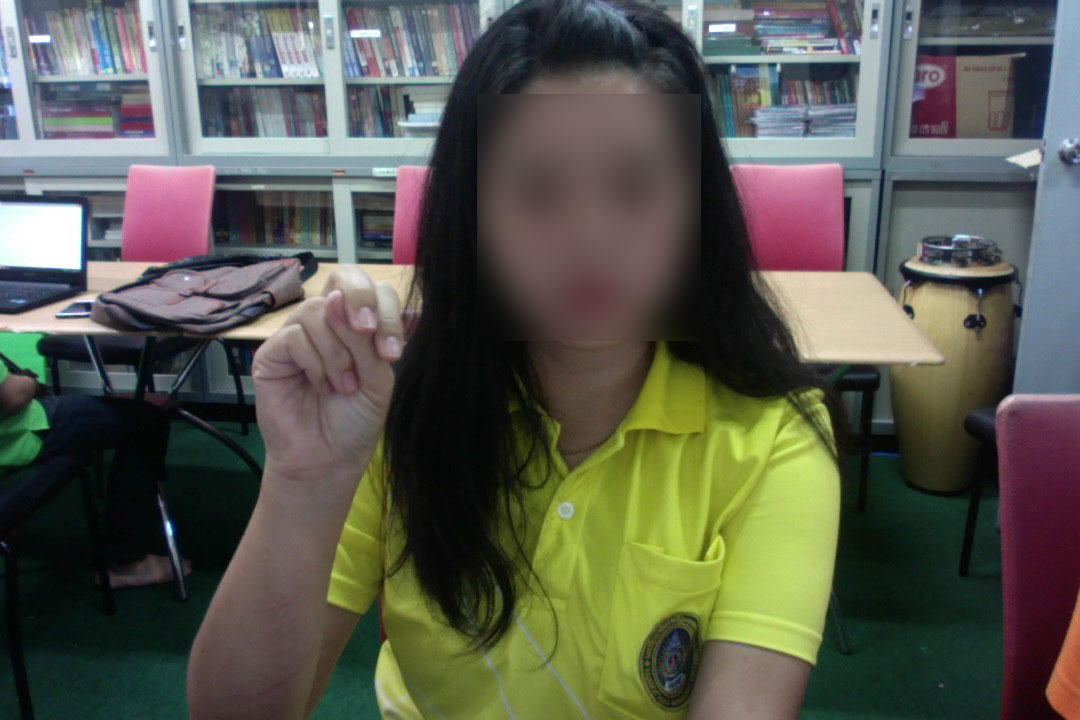nor: (237, 258, 407, 506)
